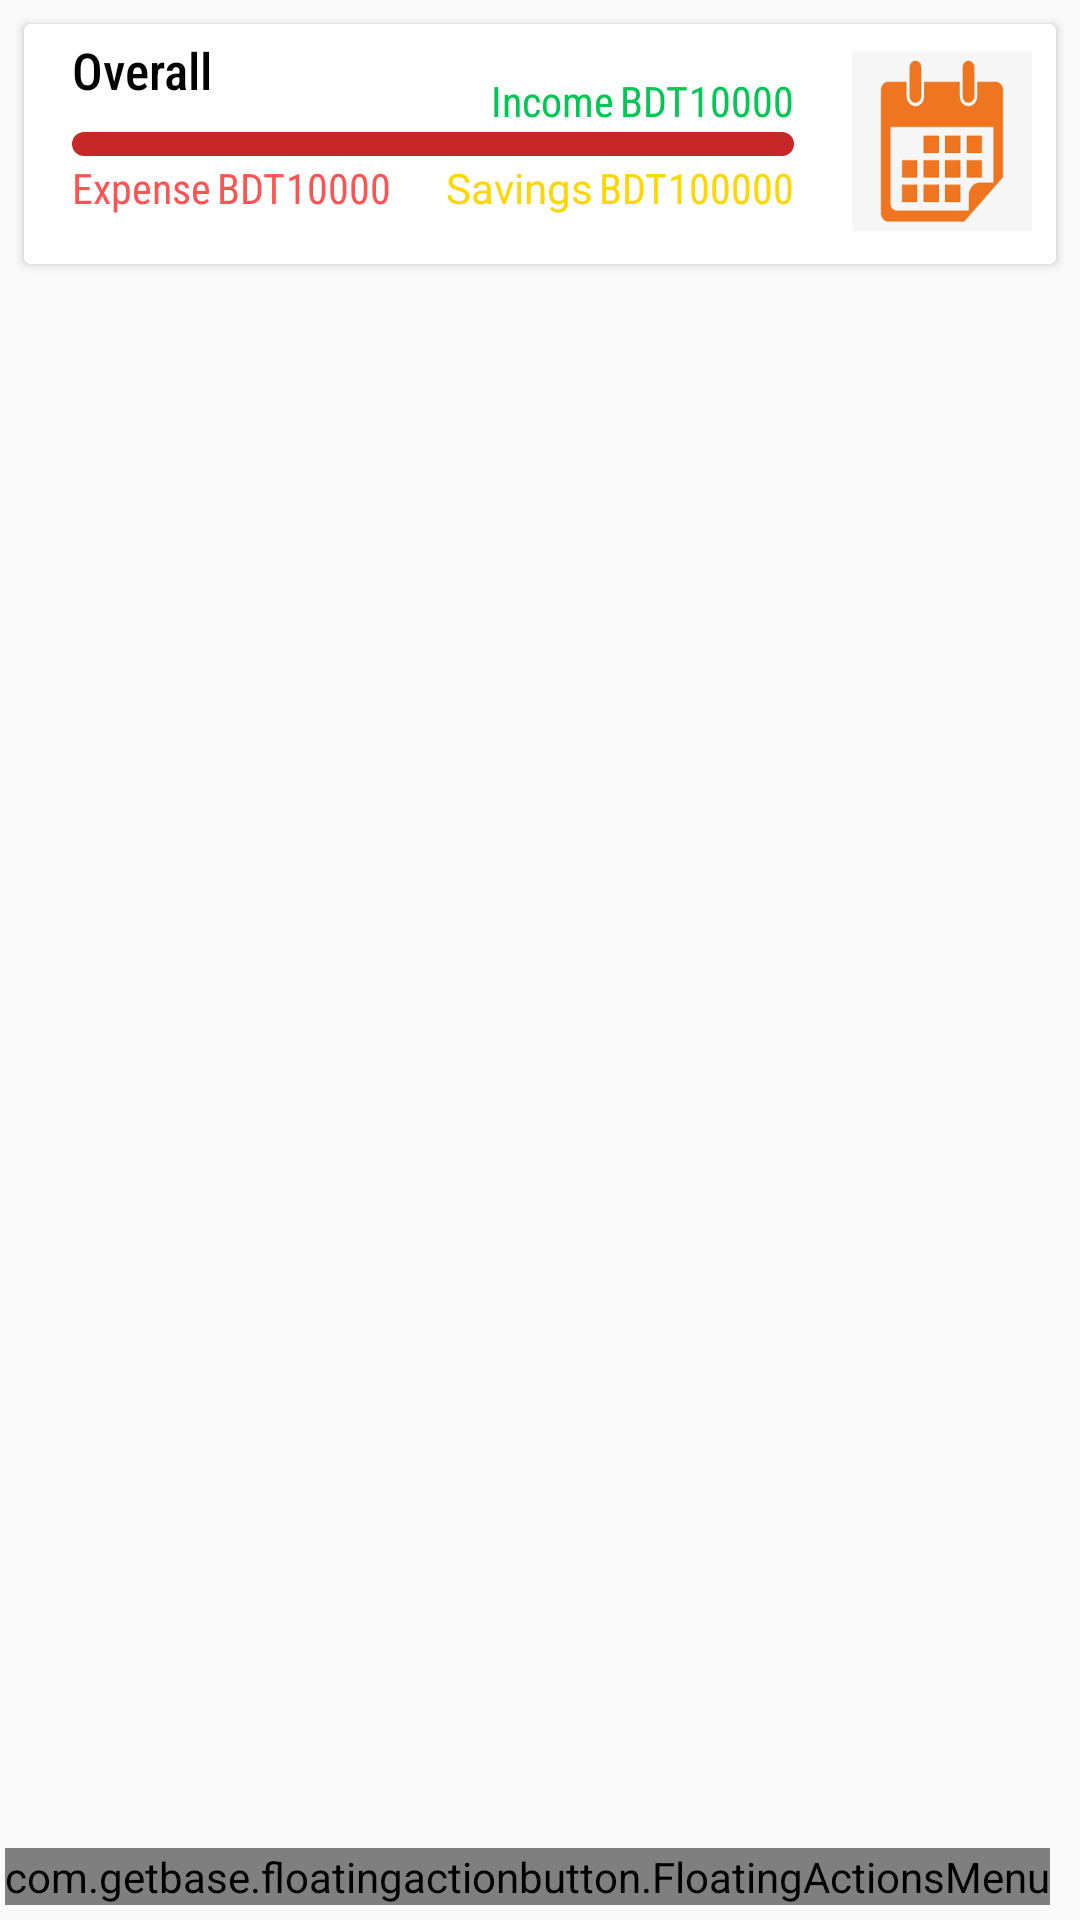

Named icons in this screenshot (1080*1920) and their centers, point (x, y):
calenderimage: point (942, 141)
